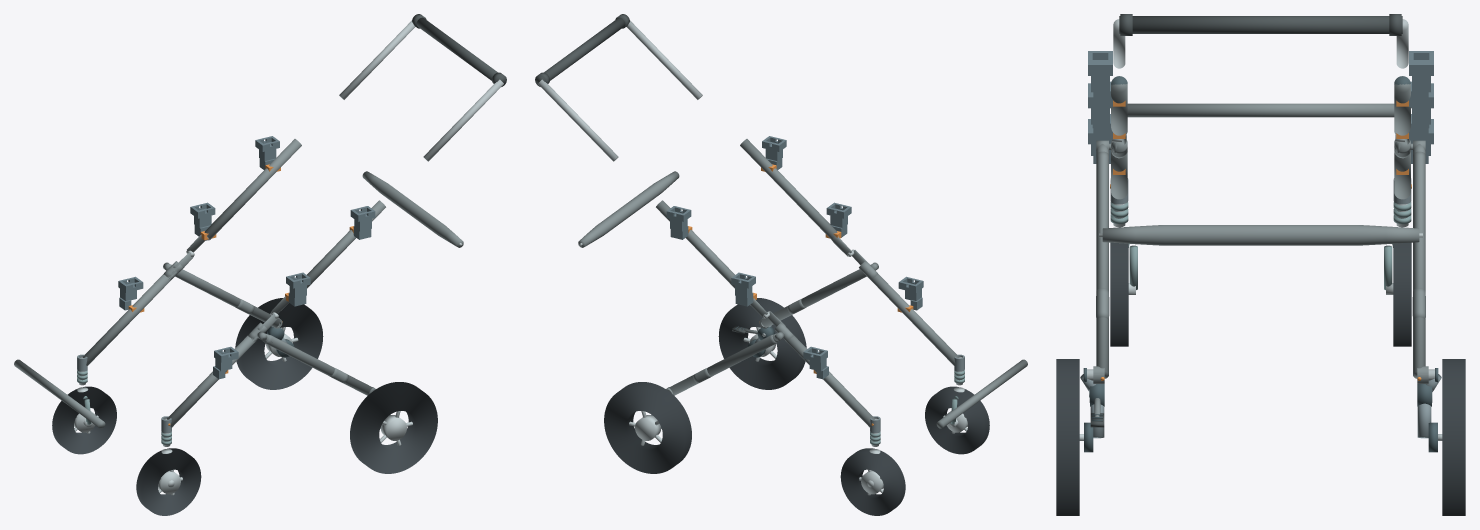
The model's file is w650_state5_wheel_M.glb.
The picture shows the model from 3 angles, left to right: view 1: azimuth 30°, elevation 25°; view 2: azimuth 150°, elevation 25°; view 3: azimuth 270°, elevation 25°; orthographic projection. The views are drawn at different scales.
Parts seen in each view (by area): view 1: RL_tire.015, RR_tire.015, FL_tire.015, FR_tire.015, V46_rearbar.013, main_upper_1.014, main_lower_1.014, round_handle.015, V46_rear_leg_-1.013, V46_rear_leg_1.013, front_fixed_round_tube.014, main_lower_-1.014 (+9 smaller); view 2: RR_tire.015, RL_tire.015, FR_tire.015, FL_tire.015, V46_rearbar.013, main_upper_-1.014, main_lower_-1.014, round_handle.015, V46_rear_leg_1.013, V46_rear_leg_-1.013, front_fixed_round_tube.014, main_lower_1.014 (+9 smaller); view 3: V46_rearbar.013, round_handle.015, front_fixed_round_tube.014, RL_tire.015, RR_tire.015, V46_rear_leg_1.013, V46_rear_leg_-1.013, FL_tire.015, FR_tire.015, Universal_Cabin_Receiver_H_1, Universal_Cabin_Receiver_H_-1, main_upper_-1.014 (+8 smaller).
Boxes of the visible parts, <box> form: RL_tire.015: <box>350,382,437,473</box>; RR_tire.015: <box>235,298,323,389</box>; FL_tire.015: <box>136,448,201,515</box>; FR_tire.015: <box>52,386,116,454</box>; V46_rearbar.013: <box>362,171,463,247</box>; main_upper_1.014: <box>204,139,301,239</box>; main_lower_1.014: <box>82,271,176,365</box>; round_handle.015: <box>416,17,505,85</box>; V46_rear_leg_-1.013: <box>265,335,372,395</box>; V46_rear_leg_1.013: <box>175,269,280,327</box>; front_fixed_round_tube.014: <box>14,359,105,428</box>; main_lower_-1.014: <box>167,335,257,427</box>; RR_tire.015: <box>604,382,691,473</box>; RL_tire.015: <box>718,298,806,389</box>; FR_tire.015: <box>840,448,905,515</box>; FL_tire.015: <box>925,386,989,454</box>; V46_rearbar.013: <box>578,171,679,247</box>; main_upper_-1.014: <box>740,139,837,239</box>; main_lower_-1.014: <box>865,271,959,365</box>; round_handle.015: <box>536,17,625,85</box>; V46_rear_leg_1.013: <box>669,335,776,395</box>; V46_rear_leg_-1.013: <box>761,269,866,327</box>; front_fixed_round_tube.014: <box>936,359,1027,428</box>; main_lower_1.014: <box>784,335,874,427</box>; V46_rearbar.013: <box>1102,225,1419,245</box>; round_handle.015: <box>1119,16,1402,33</box>; front_fixed_round_tube.014: <box>1127,103,1394,117</box>; RL_tire.015: <box>1056,359,1079,515</box>; RR_tire.015: <box>1442,359,1465,515</box>; V46_rear_leg_1.013: <box>1413,151,1425,378</box>; V46_rear_leg_-1.013: <box>1096,151,1108,378</box>; FL_tire.015: <box>1110,242,1128,346</box>; FR_tire.015: <box>1393,242,1411,346</box>; Universal_Cabin_Receiver_H_1: <box>1409,51,1433,106</box>; Universal_Cabin_Receiver_H_-1: <box>1088,51,1112,106</box>; main_upper_-1.014: <box>1111,76,1127,135</box>.
Size of the model in its own units: 1.51 by 1.26 by 0.781.
